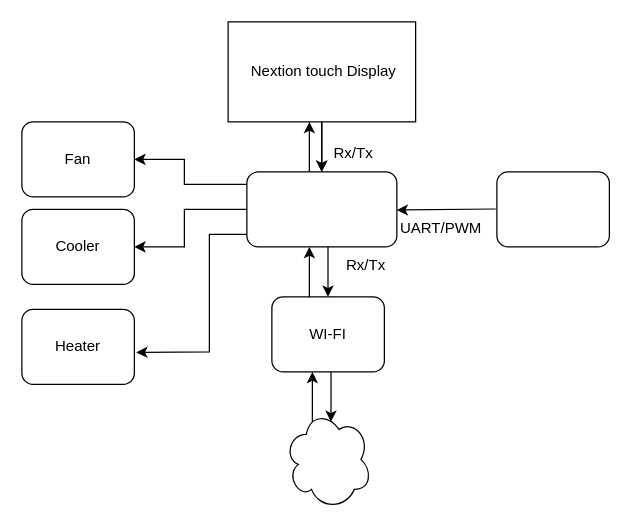
Some shapes in this 631 by 531 pixel diagram are drawn without their labels. The centre of each missing label's shape, as x and y in pixels:
"ATMega4808" belongs at point 321,209.
"Cloud" belongs at point 327,458.
"SOD30" belongs at point 552,209.
